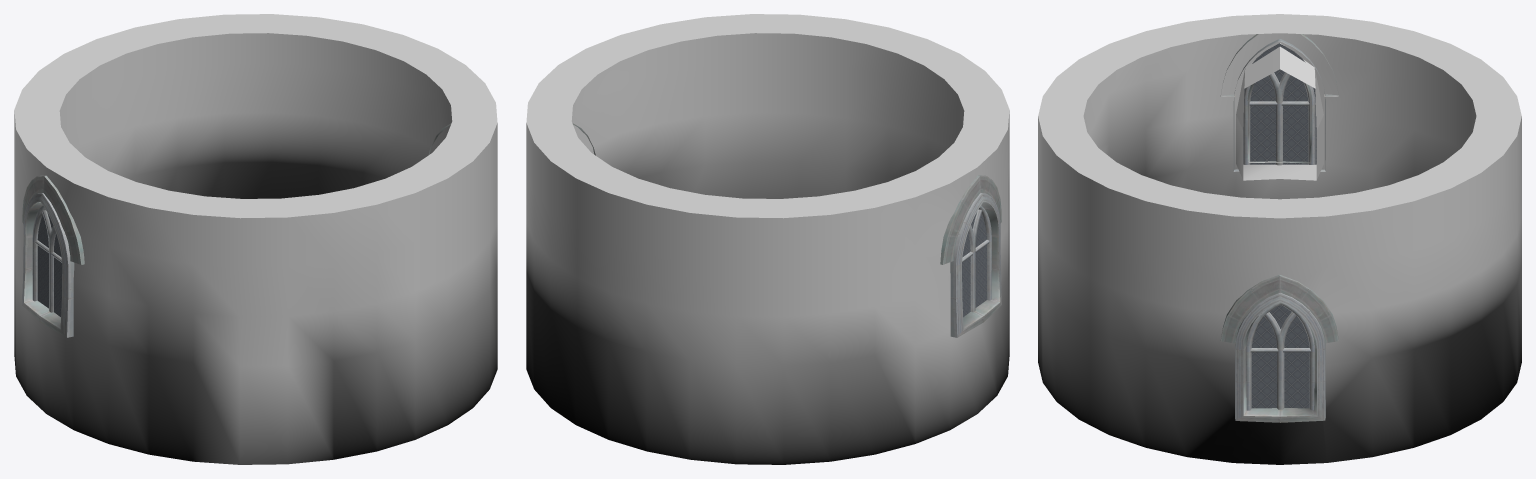
Rendered from SM_TowerA_Mid2Window_Window.fbx.
The picture shows the model from 3 angles, left to right: view 1: azimuth 30°, elevation 25°; view 2: azimuth 150°, elevation 25°; view 3: azimuth 270°, elevation 25°; orthographic projection.
Visible parts, largest first — view 1: SM_TowerA_Mid2Window_Window_LOD0; view 2: SM_TowerA_Mid2Window_Window_LOD0; view 3: SM_TowerA_Mid2Window_Window_LOD0.
Part boxes in pixels (x1=…): SM_TowerA_Mid2Window_Window_LOD0: x1=14, y1=14, x2=497, y2=464; SM_TowerA_Mid2Window_Window_LOD0: x1=526, y1=14, x2=1009, y2=464; SM_TowerA_Mid2Window_Window_LOD0: x1=1038, y1=14, x2=1521, y2=464.
Size of what is drawn, in the model's own units: 8.23 by 4.5 by 8.
